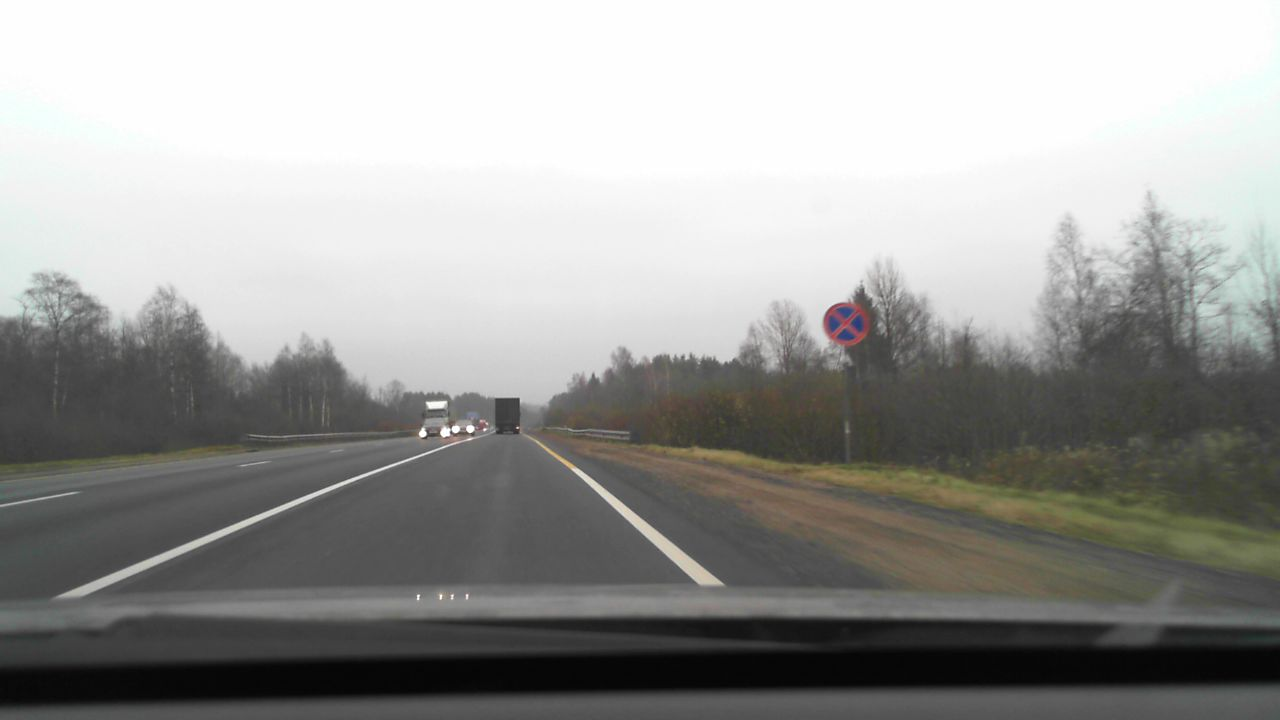No Parking: (822, 301, 870, 346)
